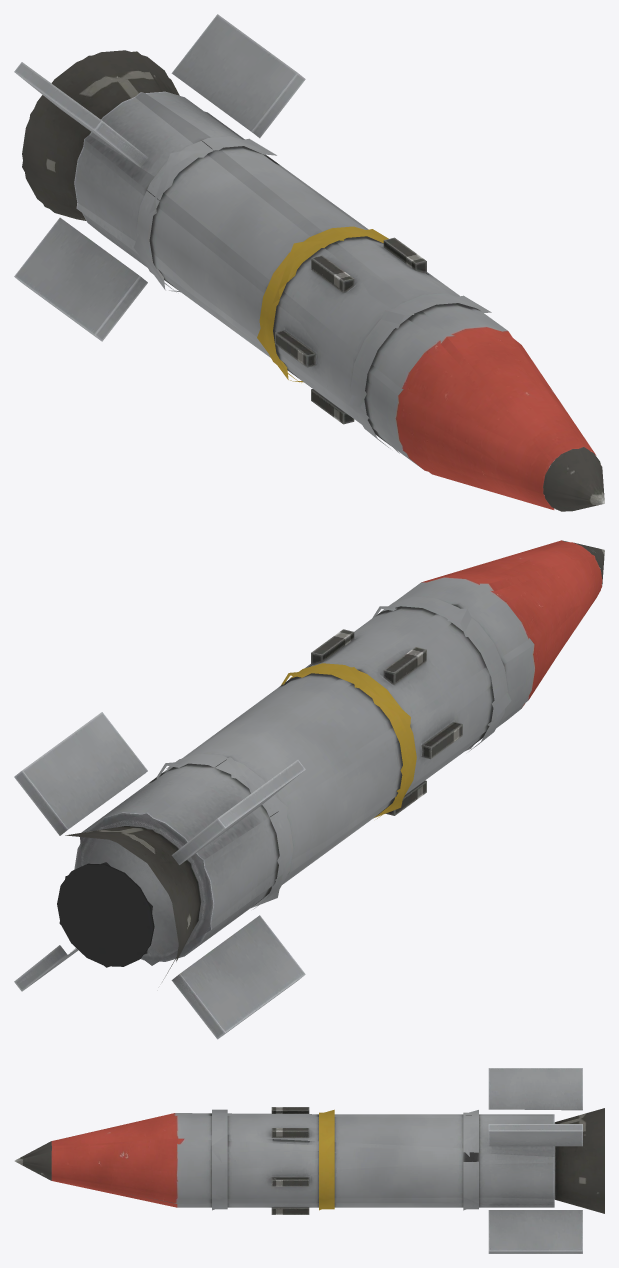
Rendered from sd_prop_rocket_free.glb.
3 views of the same model, one above another, from view 1: azimuth 30°, elevation 25°; view 2: azimuth 150°, elevation 25°; view 3: azimuth 270°, elevation 25° (orthographic). The views are drawn at different scales.
Parts seen in each view (by area): view 1: LOD0_body, LOD1_body; view 2: LOD0_body, LOD1_body; view 3: LOD0_body, LOD1_body.
Part boxes in pixels (x1,y1,x2,y2): LOD0_body: (14,14,604,511); LOD1_body: (22,51,604,509); LOD0_body: (14,542,604,1039); LOD1_body: (18,540,604,1033); LOD0_body: (14,1068,604,1253); LOD1_body: (17,1109,604,1211).
Size of the model in its own units: 0.2422 by 0.2422 by 1.
Materials: 1 (1 with a texture image).
